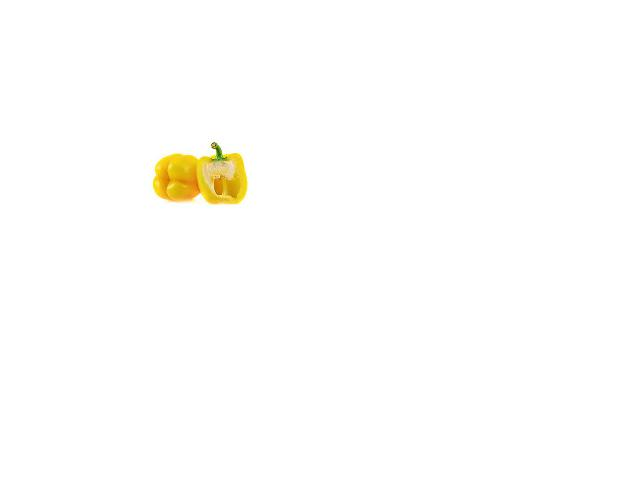bell_pepper: (187, 141, 250, 216)
